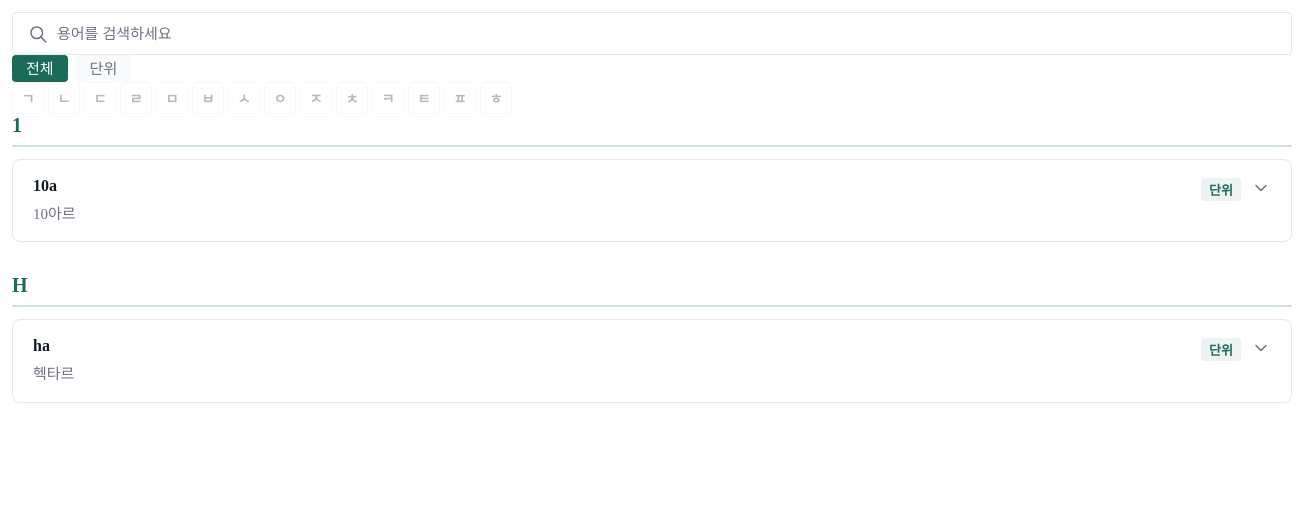
Test: GlossaryClient — 목록 역할 없이 초성 구획 + APG 아코디언 › role=list 가 없고, 용어는 h3 안 버튼(aria-expanded)으로 펼친다 — 펼친 뒤 관련 용어 버튼이 버튼 속 버튼이 아니다
What coordinates should you click on to do the following:
click the button "ha 헥타르 단위"
I would click on:
 (54, 374)
Its box is x1=13 y1=320 x2=1291 y2=402.
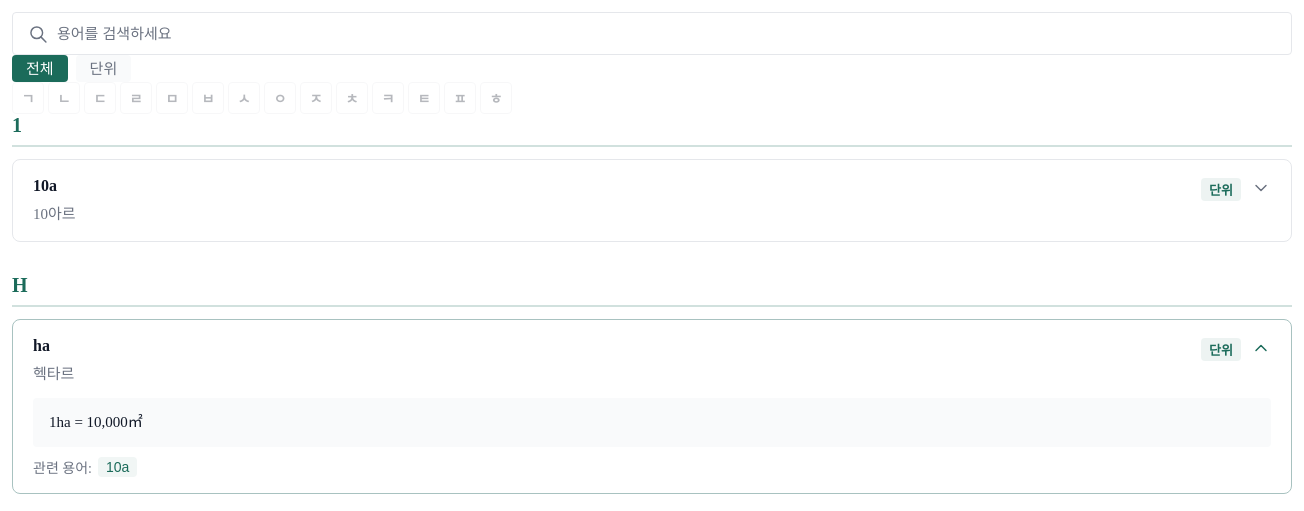
Check: the button "ha 헥타르 단위" is expanded, box x1=13 y1=320 x2=1291 y2=398
